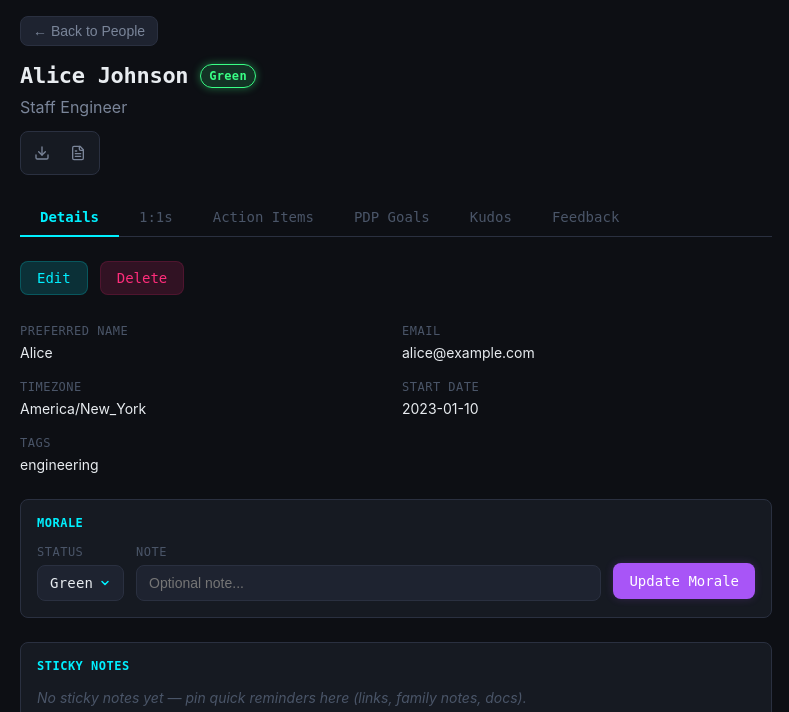
PersonDetailPage — 1:1s Tab › should show empty state when no entries exist
Click the tab with test id "tab-one-on-ones". click: [156, 218]
box: x1=119 y1=199 x2=193 y2=237
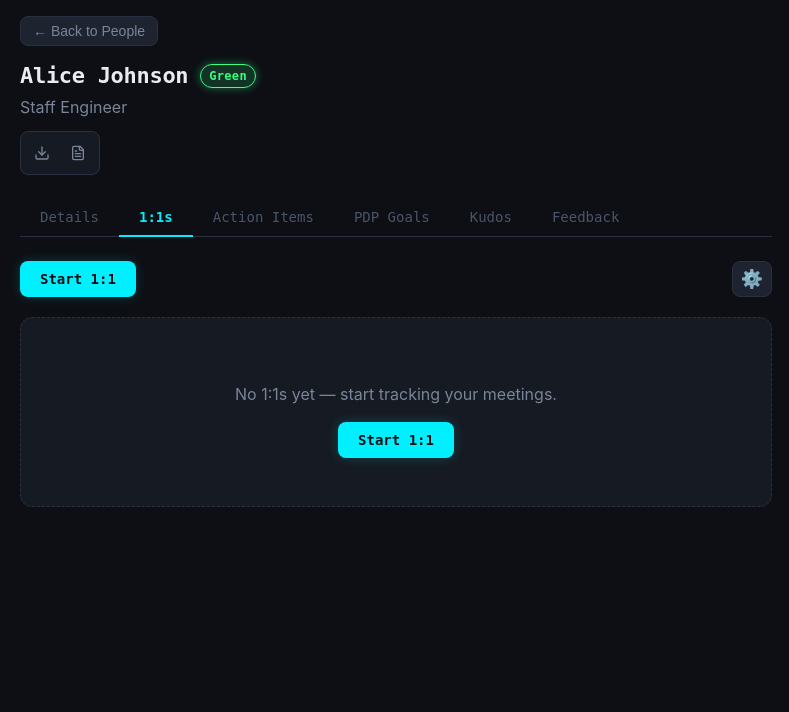
Check: the element with test id "one-on-one-timeline-empty" is shown, box x1=20 y1=317 x2=772 y2=507
Check: the button with test id "start-one-on-one-button" is shown, box x1=338 y1=422 x2=454 y2=458
Check: the text "No 1:1s yet — start tracking your meetings." is shown, box x1=235 y1=384 x2=557 y2=404
